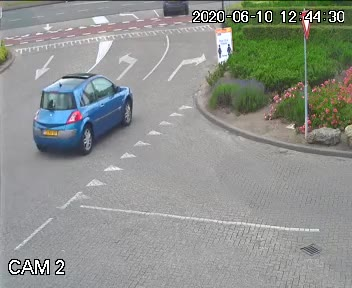car: (13, 64, 137, 157)
